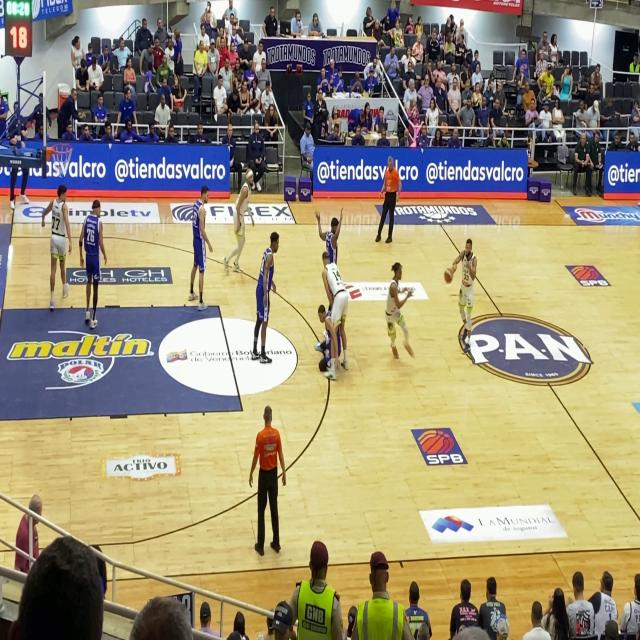Ball: (441, 268, 454, 290)
referee: (246, 403, 291, 563), (372, 142, 404, 257)
team1: (314, 244, 357, 380), (445, 225, 483, 365), (380, 260, 423, 370), (39, 184, 74, 317), (224, 164, 259, 278)
team2: (252, 215, 284, 363), (78, 186, 108, 340), (188, 178, 215, 312), (308, 301, 344, 378), (311, 194, 355, 253)
ubasket: (49, 143, 73, 180)
